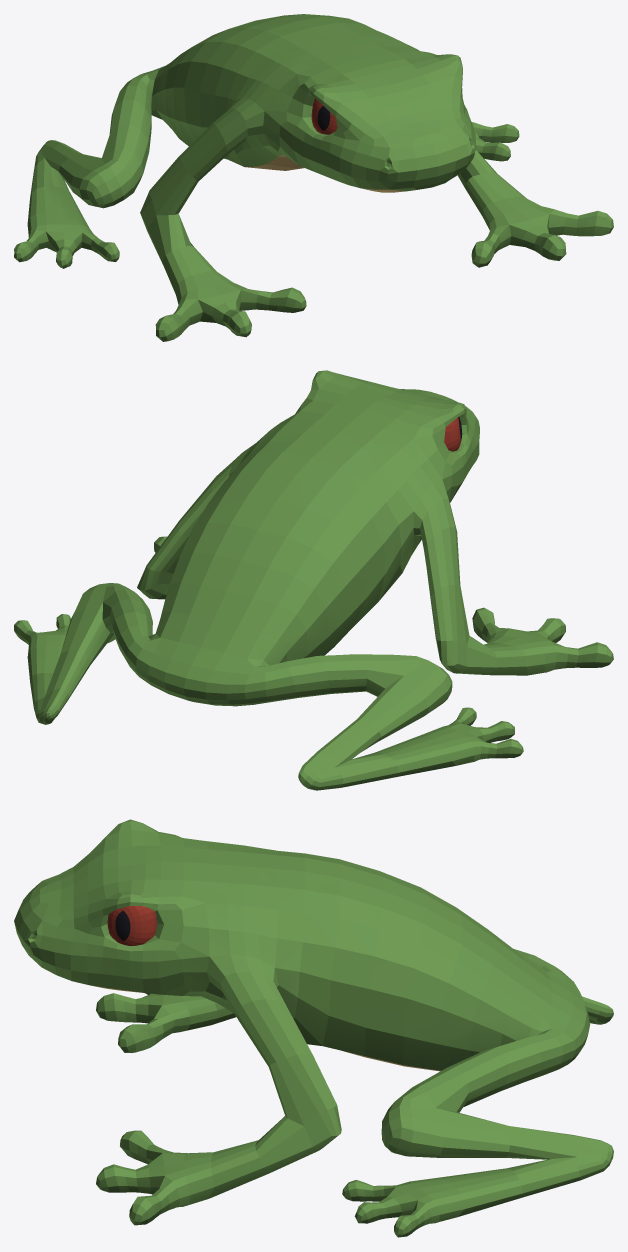
File: ani_frog.glb
3 renders of one model, top to bottom at view 1: azimuth 30°, elevation 25°; view 2: azimuth 150°, elevation 25°; view 3: azimuth 270°, elevation 25°, orthographic. The views are drawn at different scales.
Visible parts, largest first — view 1: ani_frog; view 2: ani_frog; view 3: ani_frog.
Boxes of the visible parts, left/top/right/bottom form: ani_frog: left=14, top=14, right=613, bottom=341; ani_frog: left=14, top=370, right=613, bottom=790; ani_frog: left=14, top=819, right=613, bottom=1237.
Size of the model in its own units: 0.4003 by 0.1684 by 0.3674.
